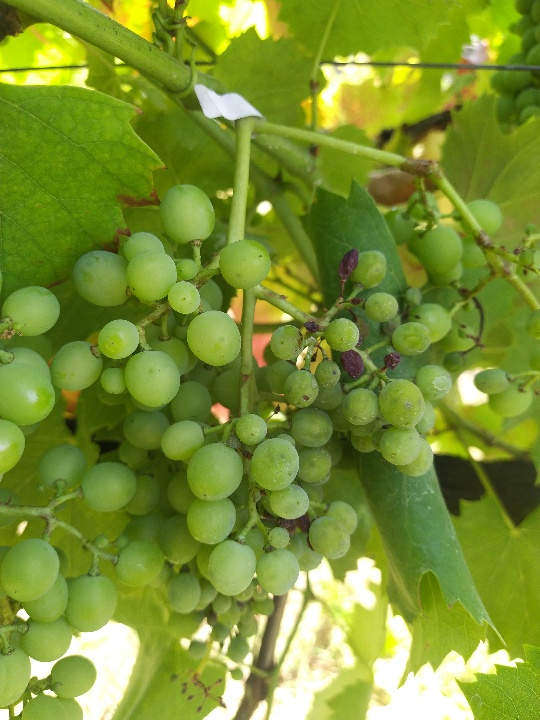grape: (69, 178, 458, 617)
